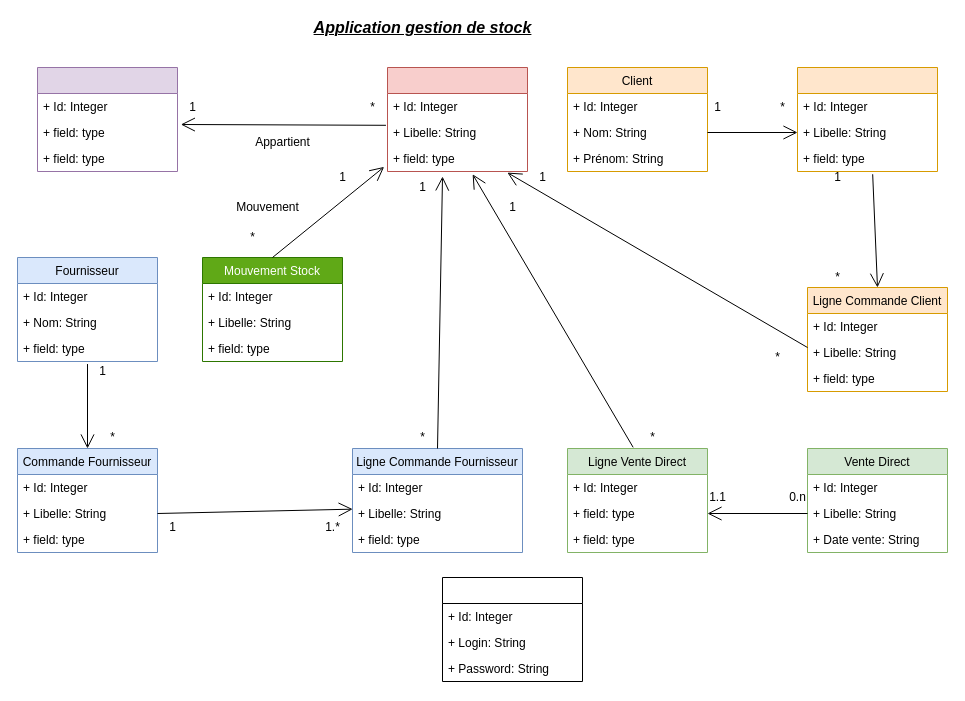
Some shapes in this 965 by 701 pixel diagram are drawn without their labels. The box of each missing label's shape, as (x1, y1, x2, y2) in pixels:
Article: (386, 66, 528, 172)
Categorie: (36, 66, 178, 172)
Commande Client: (796, 66, 938, 172)
Utilisateur: (442, 576, 582, 682)
